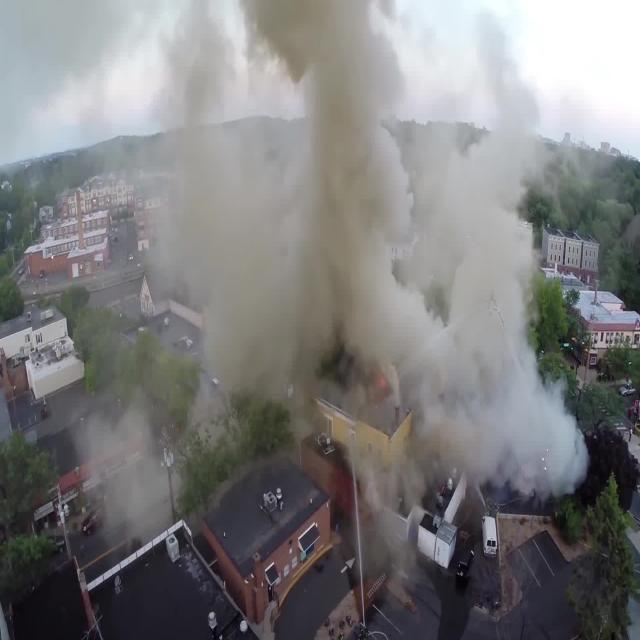Smoke: (139, 0, 589, 504)
